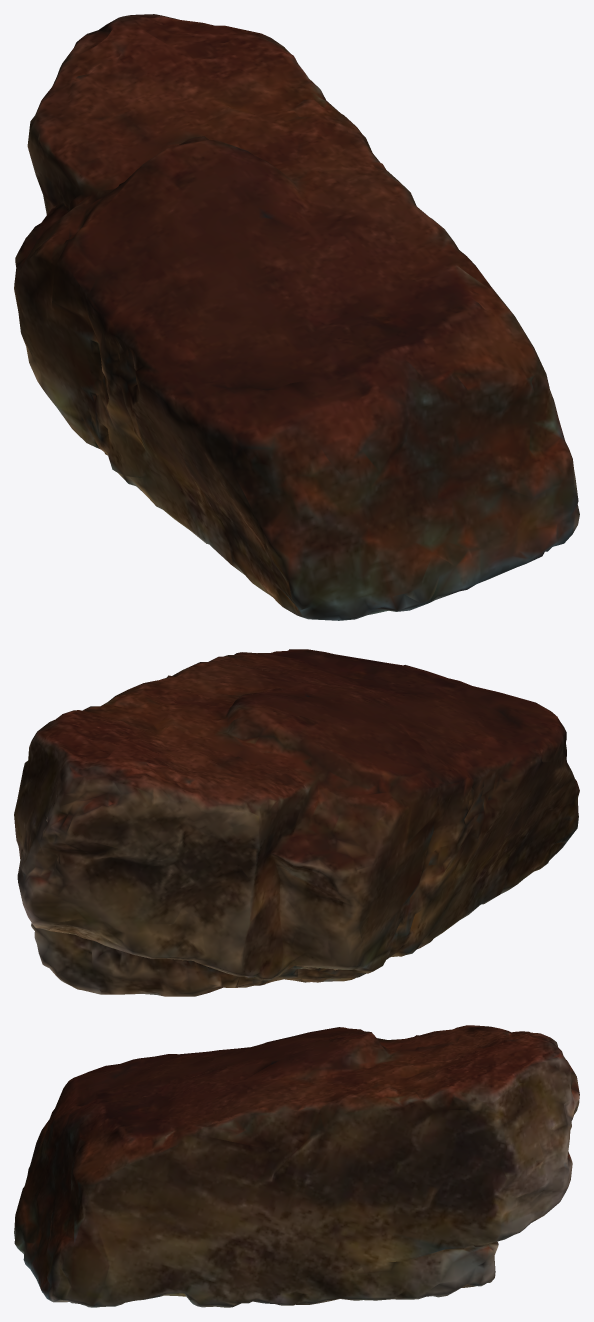
File: rock_07.glb
3 renders of one model, top to bottom at view 1: azimuth 30°, elevation 25°; view 2: azimuth 150°, elevation 25°; view 3: azimuth 270°, elevation 25°, orthographic. The views are drawn at different scales.
Parts seen in each view (by area): view 1: rock_07; view 2: rock_07; view 3: rock_07.
Boxes of the visible parts, left/top/right/bottom form: rock_07: left=14, top=14, right=579, bottom=620; rock_07: left=14, top=649, right=579, bottom=996; rock_07: left=14, top=1025, right=579, bottom=1307.
Size of the model in its own units: 0.1686 by 0.1437 by 0.3202.
1 material, 1 textured.
